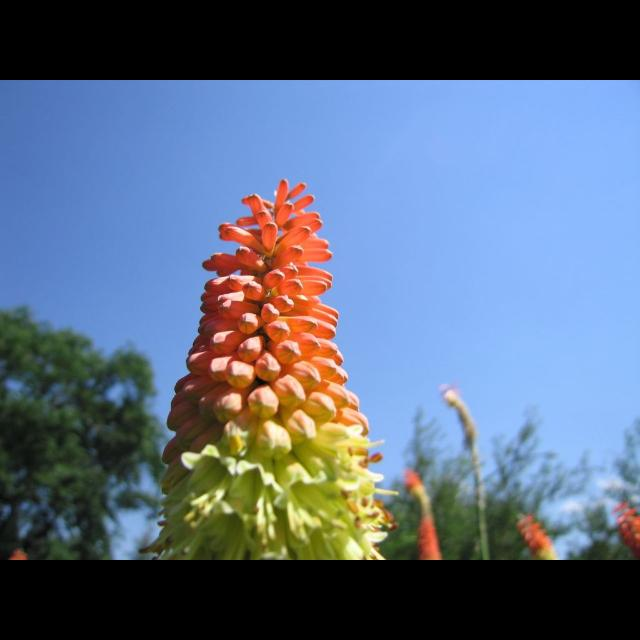Flower: (160, 173, 384, 541), (512, 509, 558, 558), (614, 499, 640, 551)
